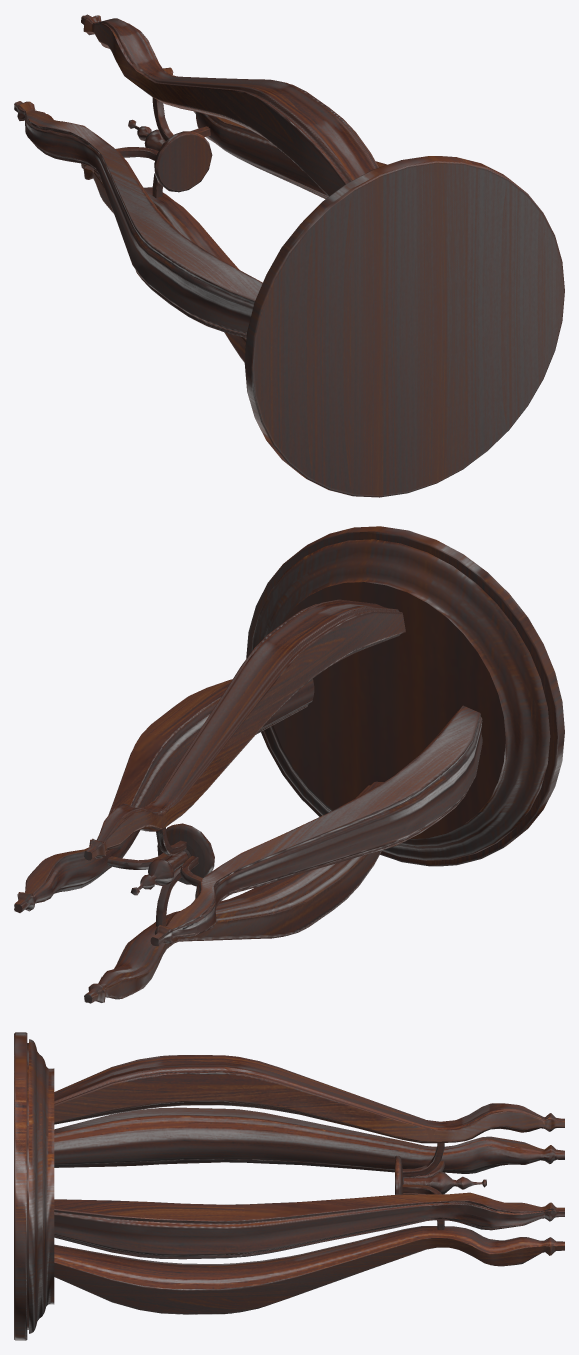
The model's file is raw_model.glb.
3 views of the same model, one above another, from view 1: azimuth 30°, elevation 25°; view 2: azimuth 150°, elevation 25°; view 3: azimuth 270°, elevation 25° (orthographic). The views are drawn at different scales.
Visible parts, largest first — view 1: raw_model.036; view 2: raw_model.036; view 3: raw_model.036.
Boxes of the visible parts, <box> form: raw_model.036: <box>14,14,564,497</box>; raw_model.036: <box>14,526,564,1003</box>; raw_model.036: <box>14,1032,564,1340</box>.
Bounding box in the file's own units: 0.4283 × 0.4283 × 0.7635.
1 material, 1 textured.
